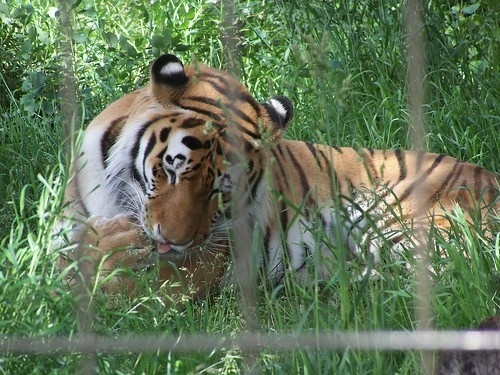tigre: (44, 54, 499, 299)
